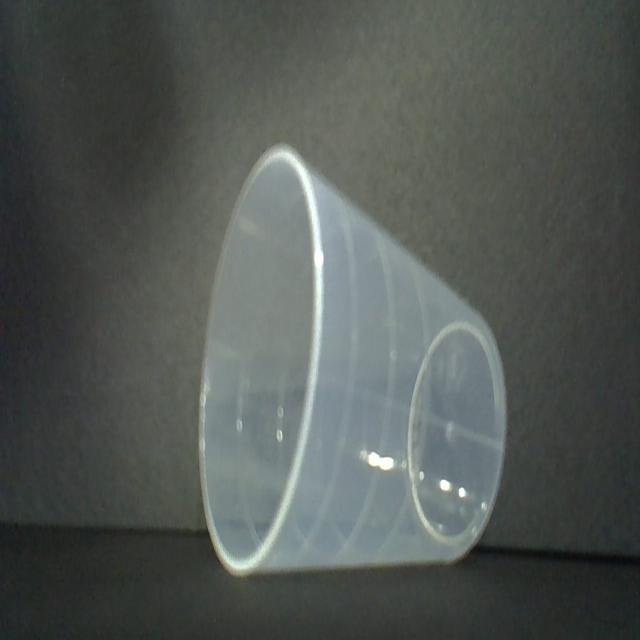cup: (190, 143, 511, 581)
